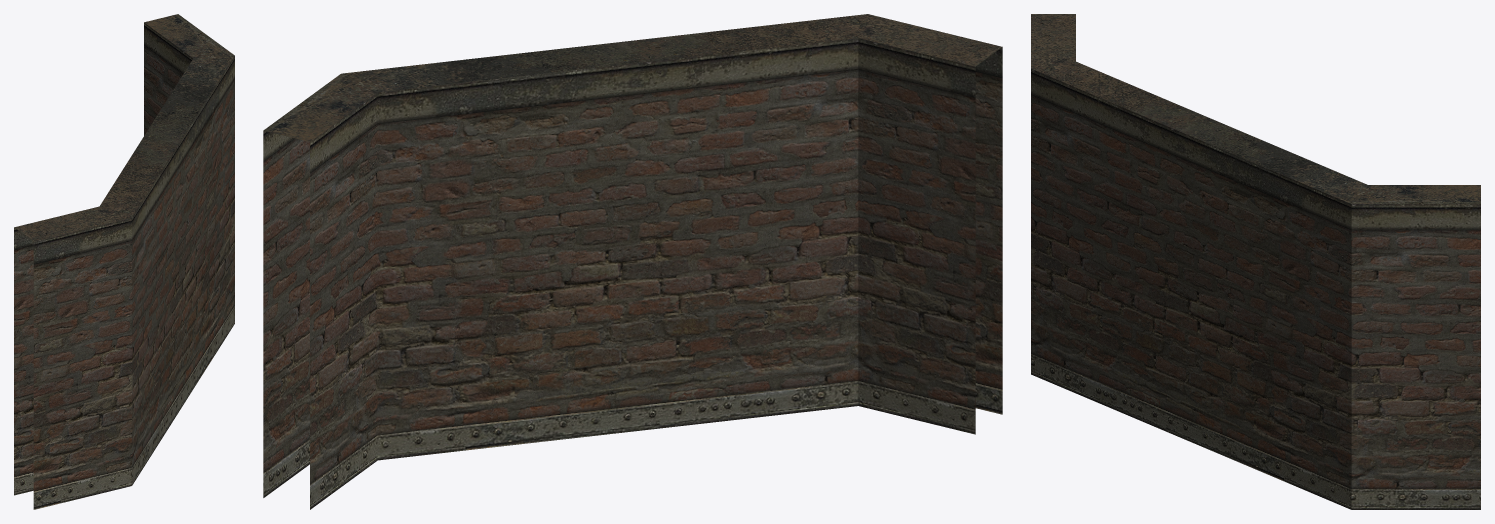
File: wall_hr_1_m1a_1.obj
3 renders of one model, left to right at view 1: azimuth 30°, elevation 25°; view 2: azimuth 150°, elevation 25°; view 3: azimuth 270°, elevation 25°, orthographic. The views are drawn at different scales.
Visible parts, largest first — view 1: wall_hr_1_m1a_1; view 2: wall_hr_1_m1a_1; view 3: wall_hr_1_m1a_1.
Boxes of the visible parts, x1,y1,x2,y2 form: wall_hr_1_m1a_1: (14,14,234,509); wall_hr_1_m1a_1: (263,14,1002,509); wall_hr_1_m1a_1: (1031,14,1480,509).
Size of the model in its own units: 4 by 3 by 4.
